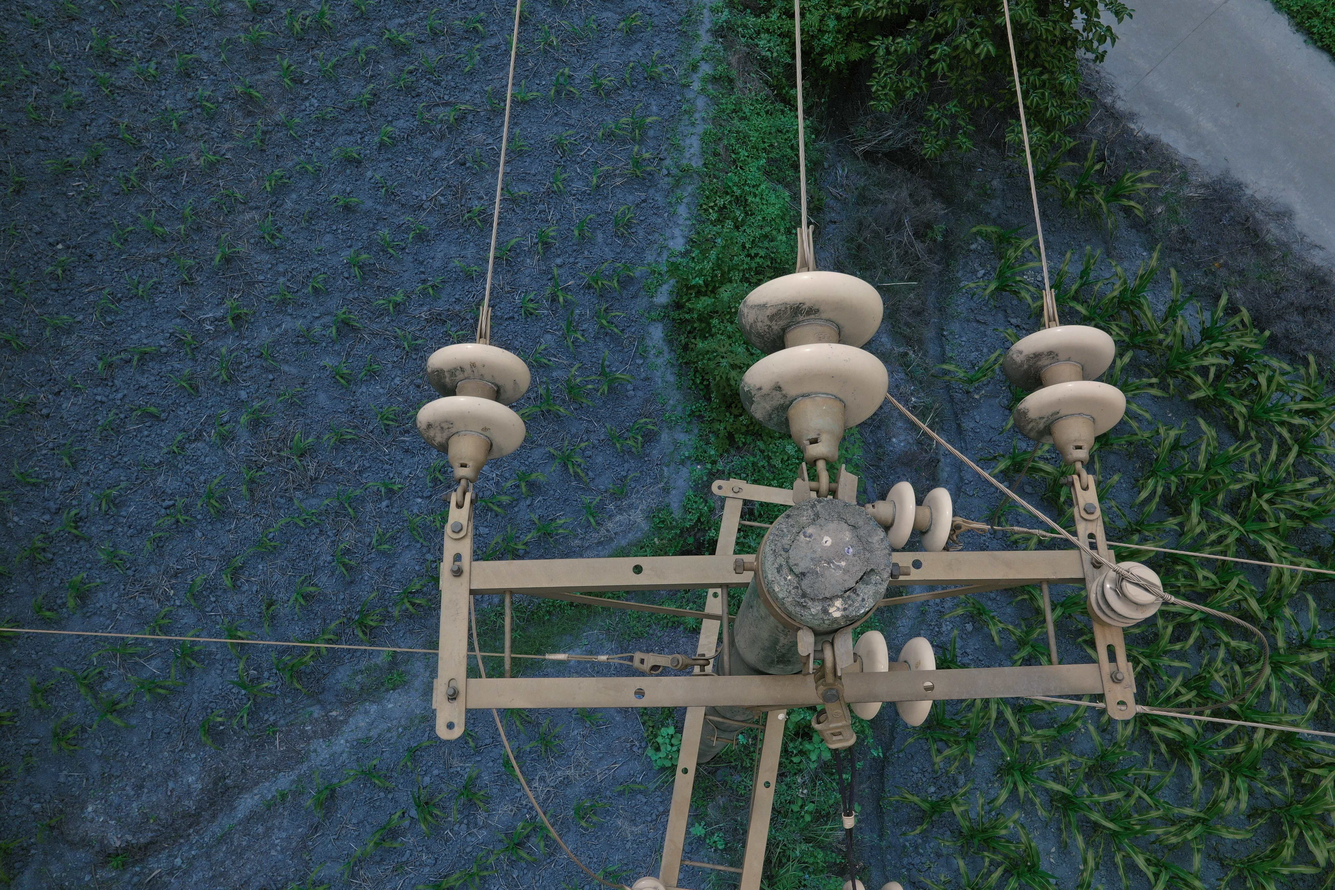severe_soiling_no_discharge_whole: (729, 263, 892, 455), (995, 317, 1130, 468), (410, 344, 536, 480)
